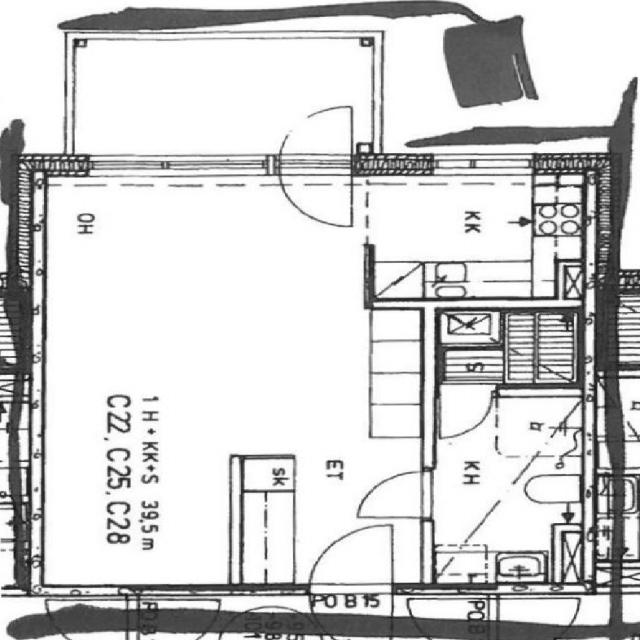door: (278, 98, 352, 176), (311, 524, 392, 594), (278, 154, 352, 230), (360, 471, 435, 518), (438, 388, 493, 437)
